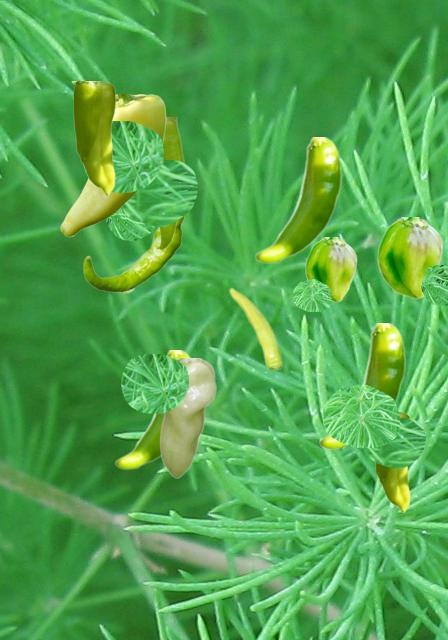green_chili: (60, 94, 165, 236), (318, 323, 405, 449), (254, 137, 341, 263), (114, 350, 191, 469), (83, 217, 184, 292), (159, 358, 215, 477), (377, 217, 442, 298), (71, 81, 114, 194), (229, 287, 281, 368), (153, 117, 184, 249), (375, 411, 409, 511), (305, 237, 356, 301)
